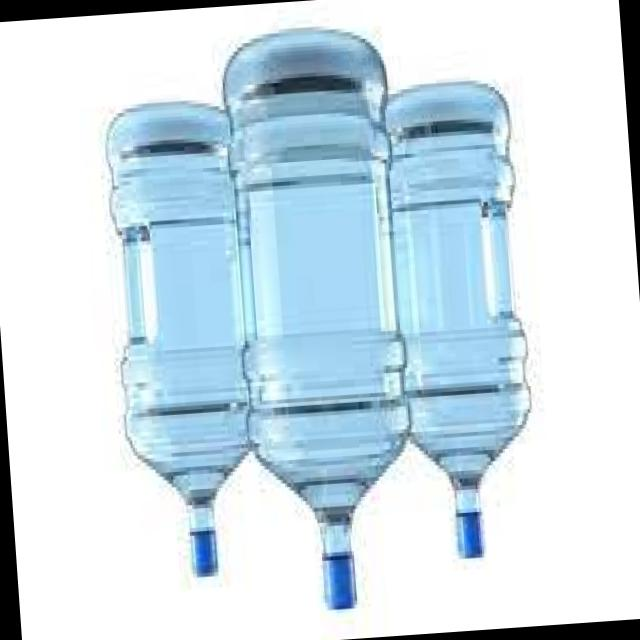Galon: (219, 25, 426, 622), (100, 97, 264, 589), (383, 78, 544, 570)
